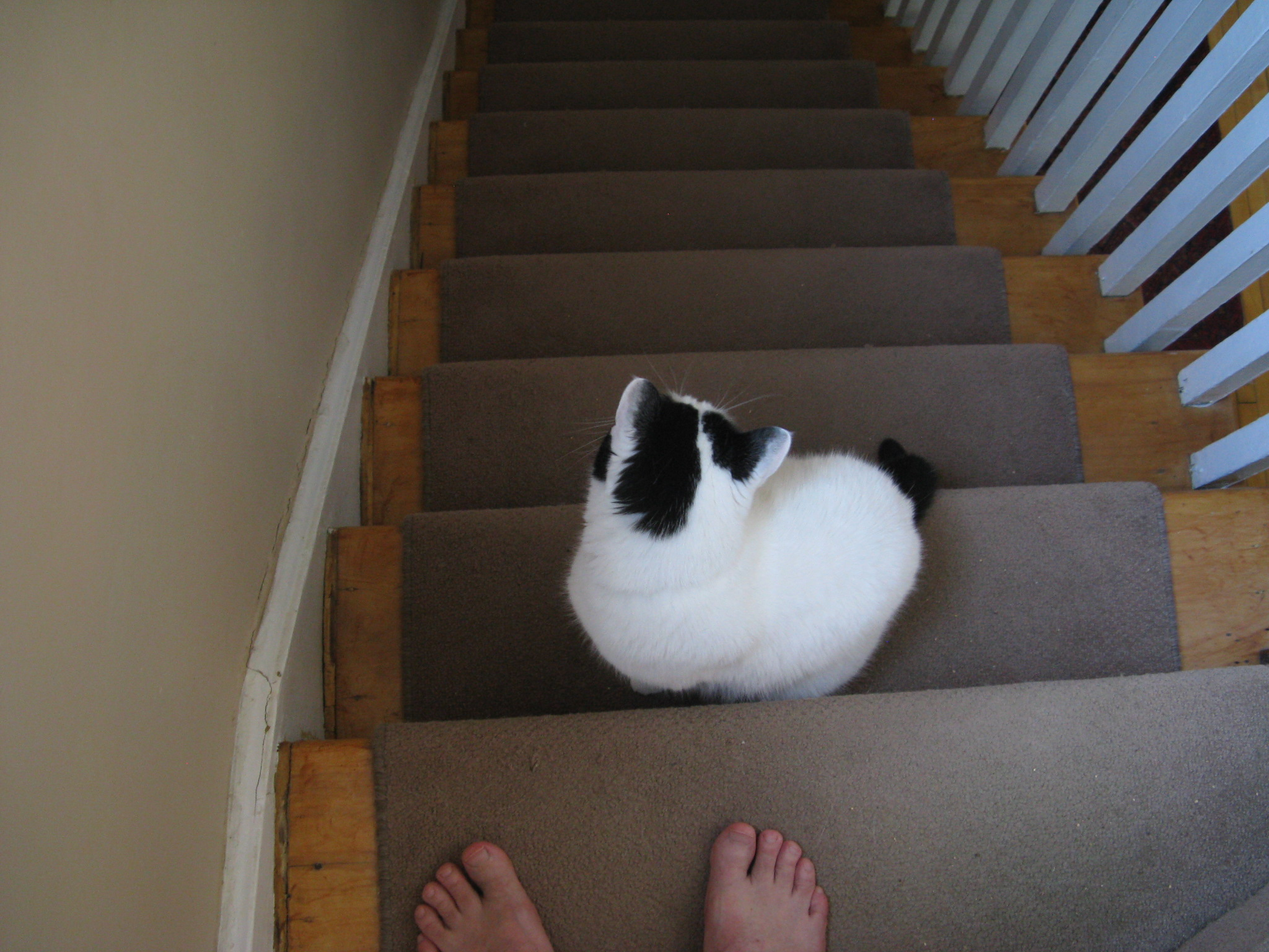cat: (572, 368, 937, 696)
